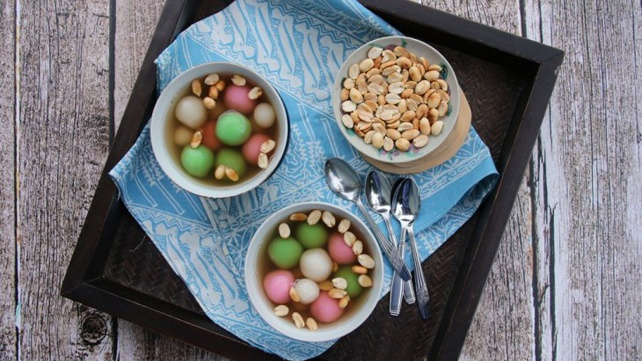ronde: (255, 208, 377, 332), (161, 73, 281, 188)
